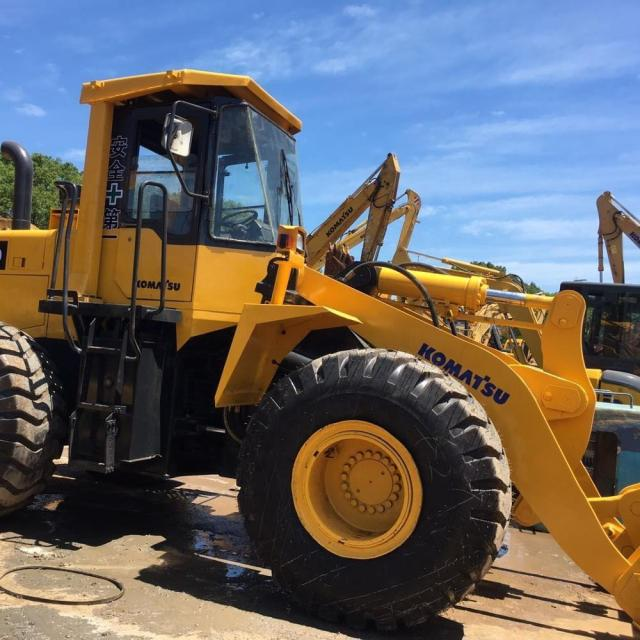buldozerpayloadergrader: (0, 65, 640, 638)
